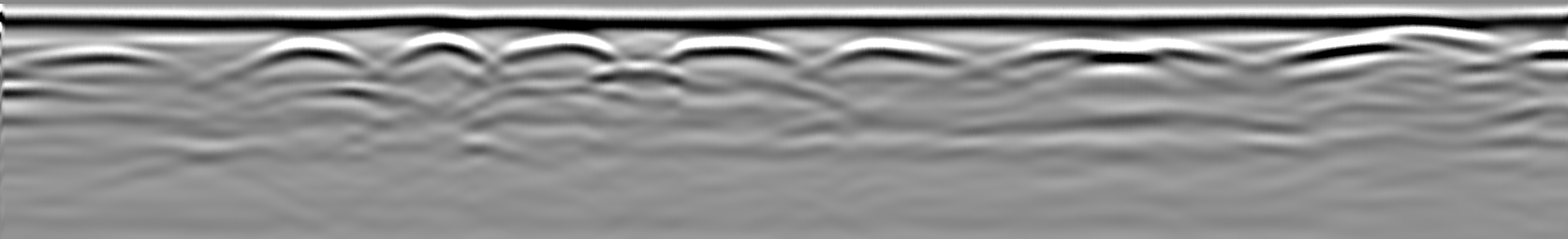steel: (1275, 35, 1499, 76), (994, 35, 1225, 74), (14, 40, 197, 79), (816, 34, 975, 78), (234, 35, 386, 79), (655, 35, 803, 70), (498, 32, 619, 73), (387, 31, 493, 72)
